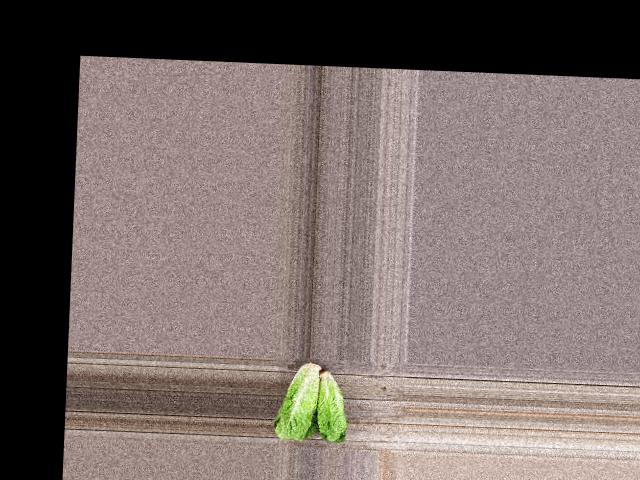lettuce: (271, 357, 321, 444)
